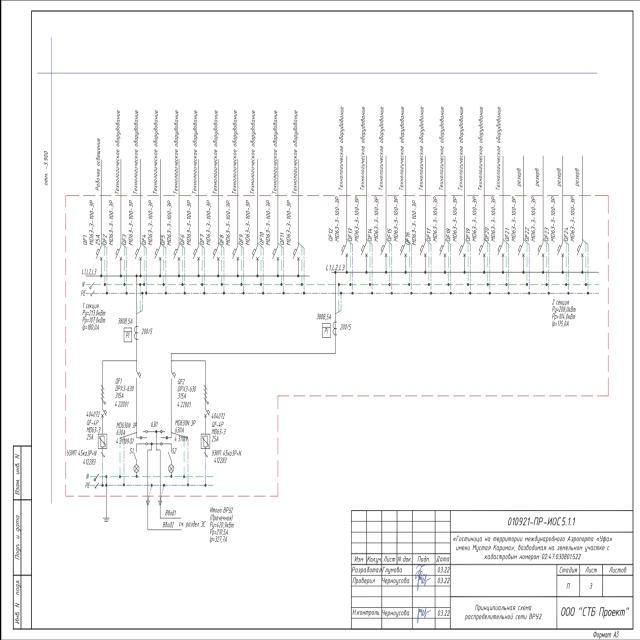-: (173, 416, 196, 442), (88, 199, 100, 247), (114, 420, 136, 446), (66, 448, 96, 466), (112, 385, 134, 409), (210, 448, 242, 464), (176, 385, 197, 409), (210, 412, 226, 443), (84, 410, 100, 440), (568, 196, 576, 243), (550, 196, 556, 244), (471, 196, 477, 244), (147, 200, 153, 248), (108, 198, 114, 246), (392, 196, 398, 244), (451, 196, 457, 244), (185, 199, 191, 247), (353, 196, 359, 244), (166, 199, 172, 247), (510, 196, 516, 244), (204, 198, 210, 246), (128, 198, 134, 246), (530, 196, 536, 243), (411, 200, 417, 247), (490, 196, 496, 243), (264, 199, 270, 246), (244, 200, 250, 247), (432, 197, 438, 244), (224, 200, 230, 247), (285, 200, 291, 247), (374, 195, 379, 242), (334, 195, 338, 242), (116, 316, 132, 326), (314, 312, 330, 322), (139, 327, 153, 337), (338, 322, 352, 331), (149, 421, 157, 428)
FV: (201, 434, 209, 448), (98, 434, 106, 448)
HL: (168, 464, 174, 474), (132, 464, 138, 472)
QF: (190, 244, 200, 262), (358, 241, 368, 259), (398, 241, 408, 259), (554, 241, 564, 259), (290, 245, 300, 262), (94, 244, 103, 262), (132, 244, 141, 262), (210, 244, 219, 262), (250, 244, 259, 262), (270, 244, 279, 262), (339, 240, 348, 258), (378, 241, 387, 259), (418, 240, 427, 258), (438, 241, 447, 259), (457, 241, 466, 259), (477, 241, 486, 259), (516, 241, 525, 259), (536, 242, 545, 260), (575, 240, 584, 258), (113, 245, 122, 262), (152, 245, 161, 262), (230, 245, 239, 262), (172, 244, 180, 262), (496, 241, 504, 259), (99, 406, 107, 420), (202, 407, 210, 421), (169, 369, 175, 382), (134, 369, 140, 382)
QS: (166, 448, 172, 462), (132, 449, 138, 462)
TT: (132, 325, 138, 343), (331, 320, 337, 338)
WH: (320, 323, 330, 339), (122, 327, 132, 343)
switch: (158, 429, 167, 447), (139, 430, 147, 446)
